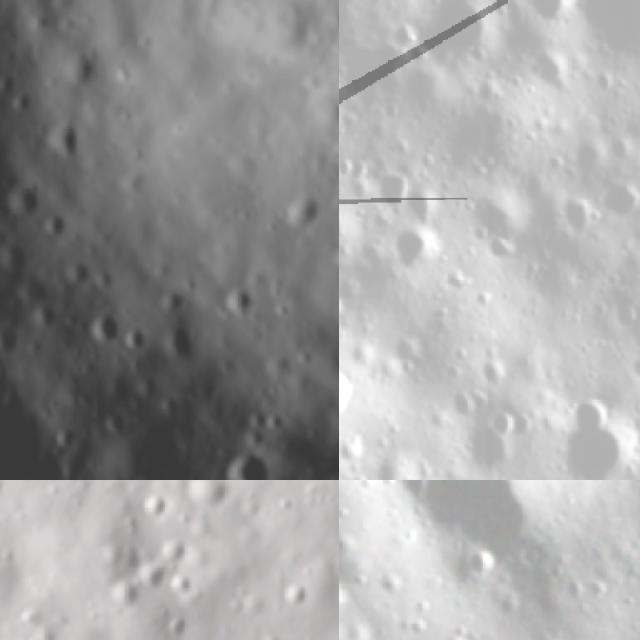crater: (423, 0, 497, 74), (559, 421, 630, 480), (173, 480, 252, 530), (156, 309, 214, 368), (274, 183, 334, 240), (454, 525, 512, 582), (210, 434, 281, 480), (128, 541, 184, 599), (40, 107, 92, 162), (157, 520, 209, 572), (83, 300, 129, 351), (400, 226, 444, 278), (217, 276, 264, 324), (512, 0, 583, 31), (2, 178, 48, 224), (558, 195, 603, 241), (138, 481, 184, 526), (563, 136, 607, 180), (280, 571, 324, 615), (378, 169, 423, 210), (532, 49, 569, 98), (602, 180, 640, 220), (37, 204, 76, 242), (487, 407, 523, 444), (118, 318, 154, 354), (52, 418, 84, 454), (339, 374, 362, 420), (516, 624, 576, 640), (0, 489, 13, 536)
